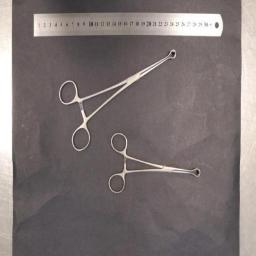Babcock Tissue Forceps: (108, 133, 200, 193)
